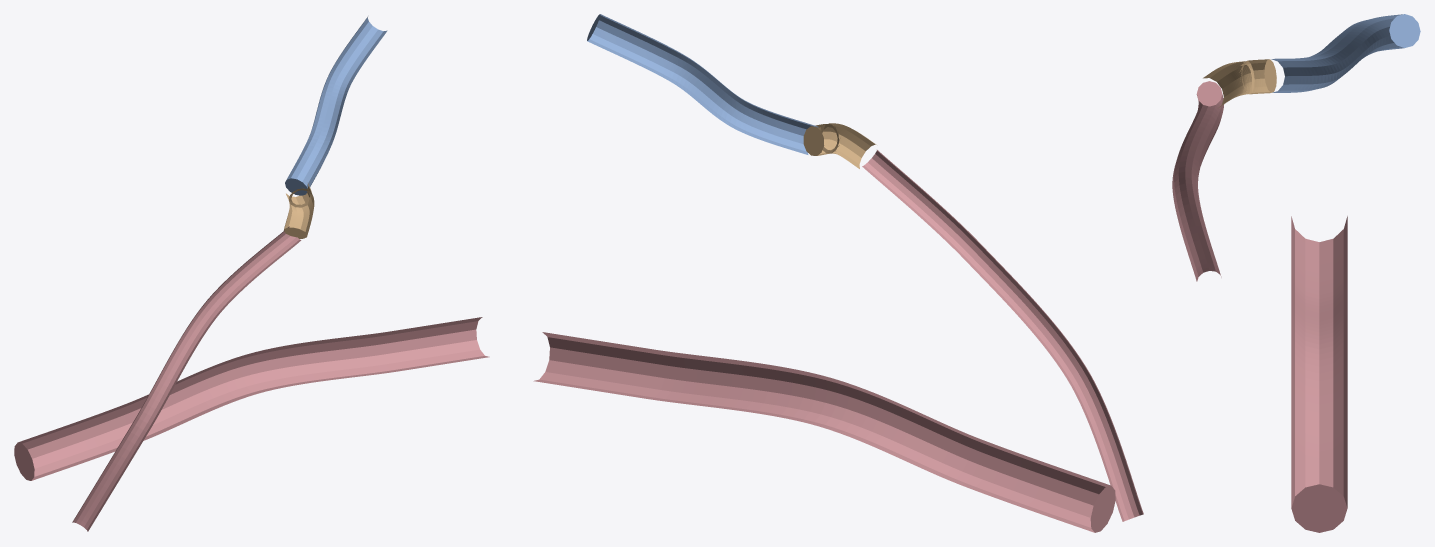
Rendered from disease_davf.glb.
3 renders of one model, left to right at view 1: azimuth 30°, elevation 25°; view 2: azimuth 150°, elevation 25°; view 3: azimuth 270°, elevation 25°, orthographic. The views are drawn at different scales.
Visible parts, largest first — view 1: Carótida intracraniana — vaso portador, Ramo meníngeo — nutridor de FAVd, Drenagem venosa cortical — exemplo, Ponto de shunt dural; view 2: Carótida intracraniana — vaso portador, Ramo meníngeo — nutridor de FAVd, Drenagem venosa cortical — exemplo, Ponto de shunt dural; view 3: Carótida intracraniana — vaso portador, Ramo meníngeo — nutridor de FAVd, Drenagem venosa cortical — exemplo, Ponto de shunt dural.
Boxes of the visible parts, <box> form: Carótida intracraniana — vaso portador: <box>14,317,489,480</box>; Ramo meníngeo — nutridor de FAVd: <box>72,226,301,531</box>; Drenagem venosa cortical — exemplo: <box>285,17,387,195</box>; Ponto de shunt dural: <box>283,183,314,238</box>; Carótida intracraniana — vaso portador: <box>533,332,1115,532</box>; Ramo meníngeo — nutridor de FAVd: <box>862,150,1143,521</box>; Drenagem venosa cortical — exemplo: <box>587,14,818,154</box>; Ponto de shunt dural: <box>803,123,876,168</box>; Carótida intracraniana — vaso portador: <box>1291,216,1347,532</box>; Ramo meníngeo — nutridor de FAVd: <box>1172,81,1223,281</box>; Drenagem venosa cortical — exemplo: <box>1271,14,1420,92</box>; Ponto de shunt dural: <box>1203,59,1276,107</box>.
Bounding box in the file's own units: 6.04 × 4.67 × 2.03.
